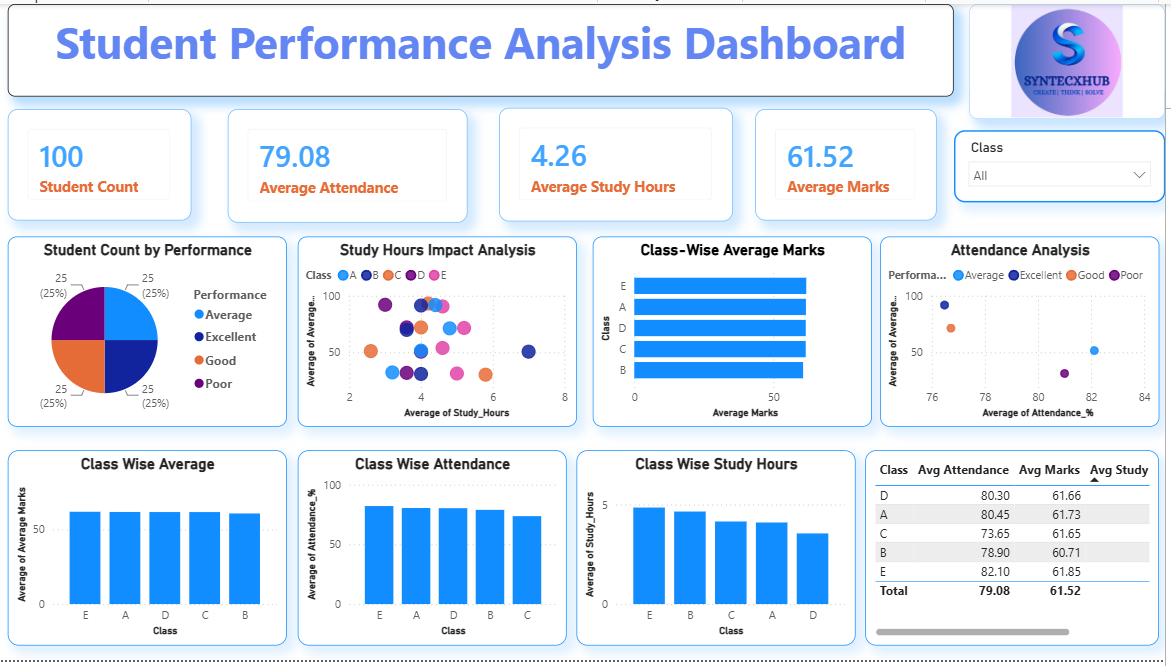

The page's visual inventory and layout, read from the dashboard file:
{"tool":"powerbi","page":{"name":"Page 1","canvas":[1280,720],"ordinal":0},"visuals":[{"type":"textbox","box":[9.6,0,1038.8,101.5],"z":0},{"type":"image","box":[1064.8,0,215.4,126.2],"z":1000},{"type":"cardVisual","fields":{"Data":["CountNonNull(Student_Performance_Balanced.Student_ID)"]},"box":[9.6,115.3,201.7,122.1],"z":2000},{"type":"cardVisual","fields":{"Data":["Avg(Student_Performance_Balanced.Attendance_%)"]},"box":[251.1,115.3,263.5,124.9],"z":3000},{"type":"cardVisual","fields":{"Data":["Avg(Student_Performance_Balanced.Study_Hours)"]},"box":[548.9,113.9,256.6,124.9],"z":4000},{"type":"cardVisual","fields":{"Data":["Avg(Student_Performance_Balanced.Average Marks)"]},"box":[830.2,115.3,199,122.1],"z":5000},{"type":"pieChart","fields":{"Category":["Student_Performance_Balanced.Performance Category"],"Y":["CountNonNull(Student_Performance_Balanced.Student_ID)"]},"box":[9.6,255.2,306,208.6],"z":6000},{"type":"clusteredBarChart","title":"Class-Wise Average Marks","fields":{"Category":["Student_Performance_Balanced.Class"],"Y":["Avg(Student_Performance_Balanced.Average Marks)"]},"box":[651.8,255.2,306,208.6],"z":7000},{"type":"scatterChart","title":"Attendance Analysis","fields":{"X":["Avg(Student_Performance_Balanced.Attendance_%)"],"Y":["Avg(Student_Performance_Balanced.Average Marks)"],"Series":["Student_Performance_Balanced.Performance Category"]},"box":[967.4,255.2,306,208.6],"z":8000},{"type":"scatterChart","title":"Study Hours Impact Analysis","fields":{"X":["Avg(Student_Performance_Balanced.Study_Hours)"],"Y":["Avg(Student_Performance_Balanced.Average Marks)"],"Series":["Student_Performance_Balanced.Class"],"Size":["CountNonNull(Student_Performance_Balanced.Student_ID)"],"Category":["Student_Performance_Balanced.Performance Category"]},"box":[328,255.2,306,208.6],"z":9000},{"type":"slicer","fields":{"Values":["Student_Performance_Balanced.Class"]},"box":[1048.4,138.6,231.9,79.6],"z":10000},{"type":"clusteredColumnChart","title":"Class Wise Average","fields":{"Category":["Student_Performance_Balanced.Class"],"Y":["Avg(Student_Performance_Balanced.Average Marks)"]},"box":[9.6,489.9,306,214.1],"z":11000},{"type":"clusteredColumnChart","title":"Class Wise Attendance","fields":{"Category":["Student_Performance_Balanced.Class"],"Y":["Avg(Student_Performance_Balanced.Attendance_%)"]},"box":[328,489.9,295,214.1],"z":12000},{"type":"clusteredColumnChart","title":"Class Wise Study Hours","fields":{"Category":["Student_Performance_Balanced.Class"],"Y":["Avg(Student_Performance_Balanced.Study_Hours)"]},"box":[634,489.9,306,214.1],"z":13000},{"type":"tableEx","fields":{"Values":["Student_Performance_Balanced.Class","Student_Performance_Balanced.Avg Attendance","Student_Performance_Balanced.Avg Marks","Student_Performance_Balanced.Avg Study Hours","Student_Performance_Balanced.Class Rank"]},"box":[950.9,489.9,322.5,214.1],"z":14000}]}

Visuals, with their boxes in screenshot pixels (x1, y1, x2, y2), scaled from the page's 1280x720 canvas onto the 1171x666 screenshot:
textbox: rect(9, 0, 959, 94)
image: rect(974, 0, 1170, 117)
cardVisual - CountNonNull(Student_Performance_Balanced.Student_ID): rect(9, 107, 193, 220)
cardVisual - Avg(Student_Performance_Balanced.Attendance_%): rect(230, 107, 471, 222)
cardVisual - Avg(Student_Performance_Balanced.Study_Hours): rect(502, 105, 737, 221)
cardVisual - Avg(Student_Performance_Balanced.Average Marks): rect(760, 107, 942, 220)
pieChart - Student_Performance_Balanced.Performance Category x CountNonNull(Student_Performance_Balanced.Student_ID): rect(9, 236, 289, 429)
"Class-Wise Average Marks" clusteredBarChart: rect(596, 236, 876, 429)
"Attendance Analysis" scatterChart: rect(885, 236, 1165, 429)
"Study Hours Impact Analysis" scatterChart: rect(300, 236, 580, 429)
slicer - Student_Performance_Balanced.Class: rect(959, 128, 1170, 202)
"Class Wise Average" clusteredColumnChart: rect(9, 453, 289, 651)
"Class Wise Attendance" clusteredColumnChart: rect(300, 453, 570, 651)
"Class Wise Study Hours" clusteredColumnChart: rect(580, 453, 860, 651)
tableEx - Student_Performance_Balanced.Class x Student_Performance_Balanced.Avg Attendance: rect(870, 453, 1165, 651)
